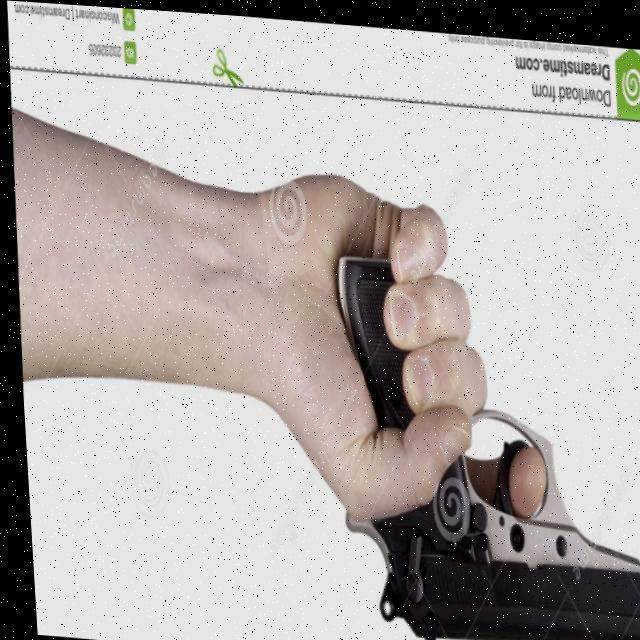pistol: (329, 387, 640, 640)
